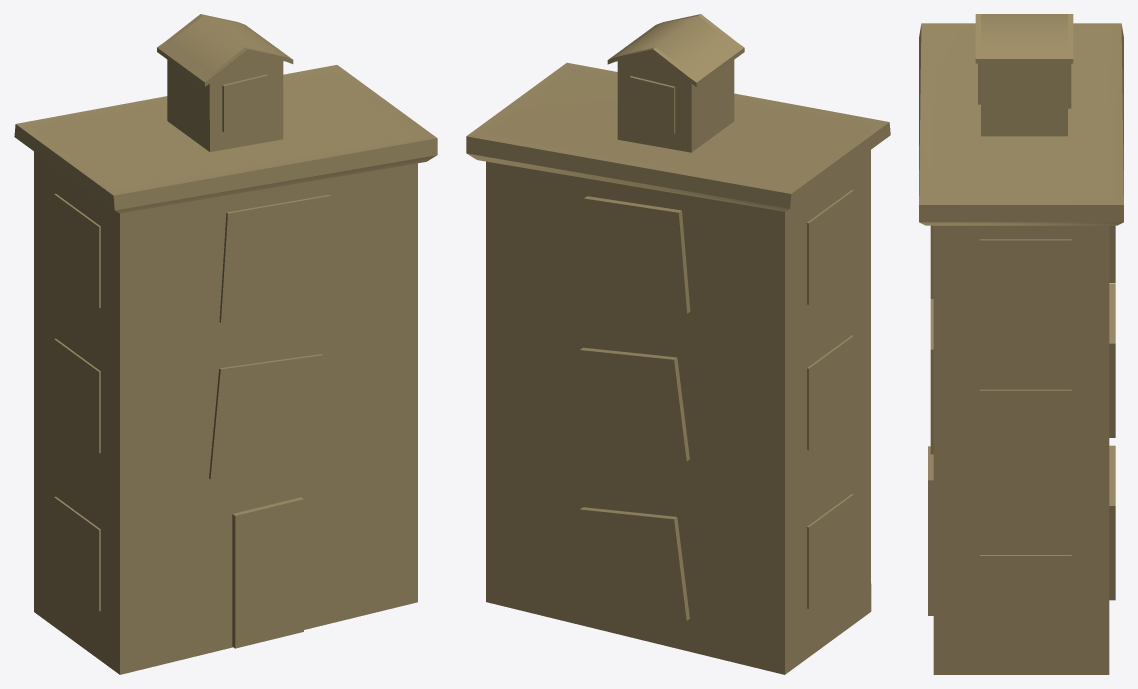
File: tall_buildings_02_lo.fbx
The picture shows the model from 3 angles, left to right: view 1: azimuth 30°, elevation 25°; view 2: azimuth 150°, elevation 25°; view 3: azimuth 270°, elevation 25°; orthographic projection. The views are drawn at different scales.
Parts seen in each view (by area): view 1: lo_building_2, window_lo, hut_lo; view 2: lo_building_2, window_lo, hut_lo; view 3: lo_building_2, window_lo, hut_lo.
Boxes of the visible parts, x1,y1,x2,y2 form: lo_building_2: [14, 65, 437, 674]; window_lo: [54, 74, 330, 648]; hut_lo: [157, 14, 293, 151]; lo_building_2: [466, 62, 890, 674]; window_lo: [580, 76, 853, 620]; hut_lo: [607, 14, 744, 152]; lo_building_2: [919, 23, 1123, 674]; window_lo: [928, 63, 1115, 638]; hut_lo: [975, 14, 1073, 136].
Bounding box in the file's own units: 0.26 × 0.4422 × 0.14.
